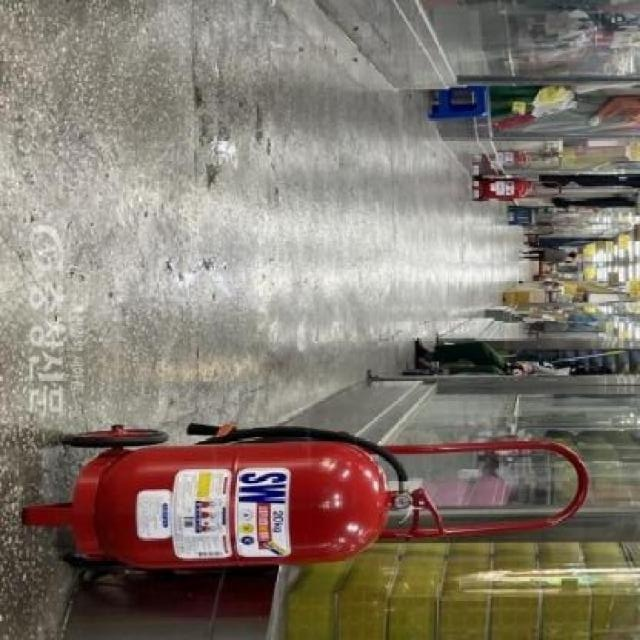fire extinguisher: (95, 422, 449, 570), (485, 177, 539, 198)
